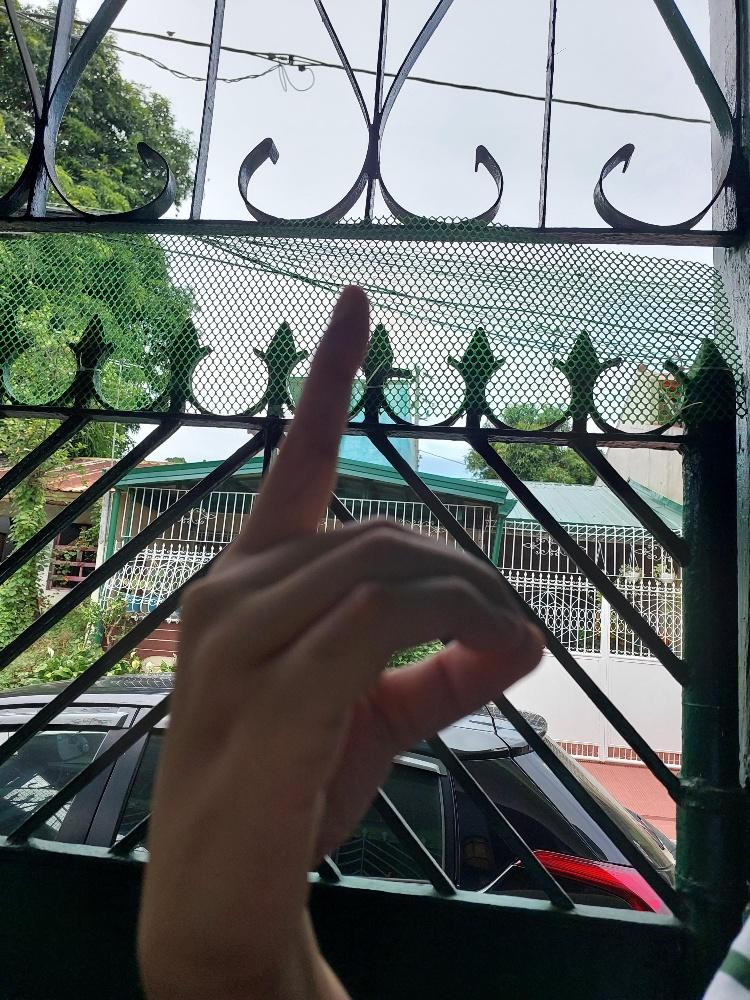d: (137, 278, 549, 999)
